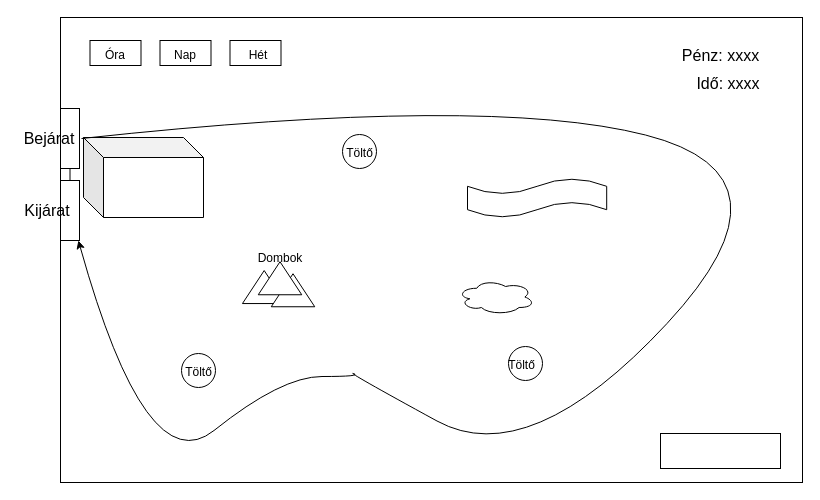
The diagram is 820 pixels wide and 500 high, and some of its shapes have lost their labels. The box of each missing label's shape, as (x1, y1, x2, y2) in pixels:
Bokor: (456, 278, 534, 314)
Bolt: (660, 432, 780, 468)
Folyó: (466, 178, 607, 218)
Safari menü: (82, 136, 204, 218)
